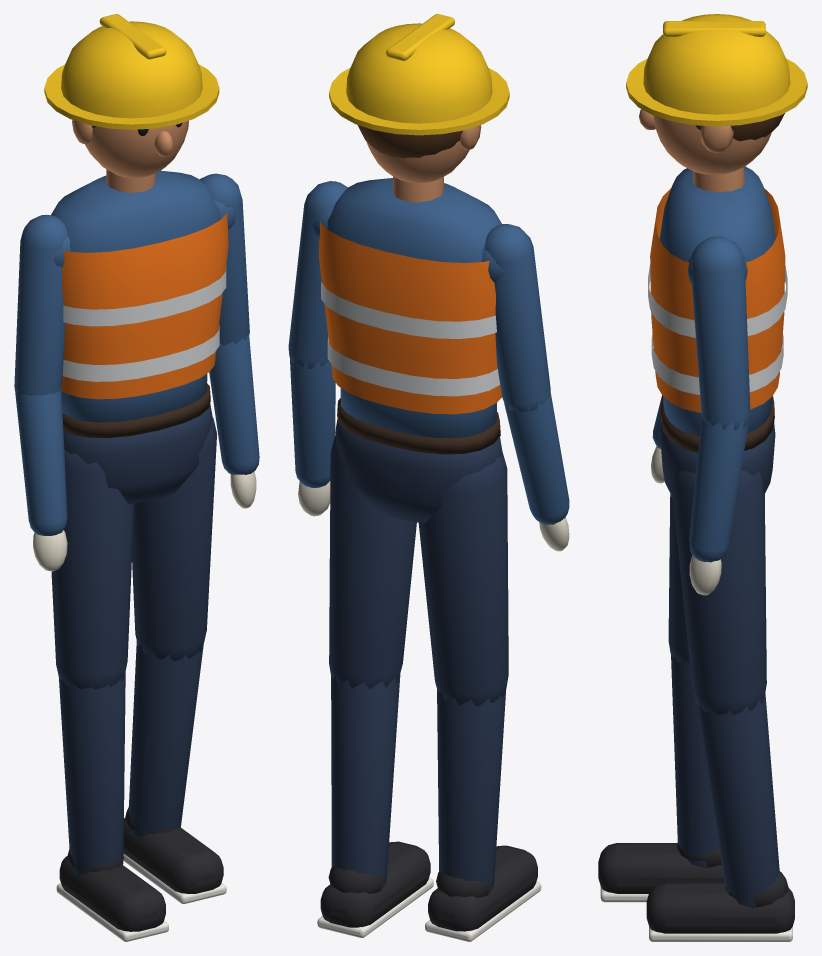
Rendered from worker.fbx.
3 renders of one model, left to right at view 1: azimuth 30°, elevation 25°; view 2: azimuth 150°, elevation 25°; view 3: azimuth 270°, elevation 25°, orthographic. The views are drawn at different scales.
Parts seen in each view (by area): view 1: worker; view 2: worker; view 3: worker.
Boxes of the visible parts, bbox=[...] form: worker: bbox=[14, 14, 259, 941]; worker: bbox=[288, 14, 569, 941]; worker: bbox=[598, 14, 807, 941].
Bounding box in the file's own units: 0.53 × 1.78 × 0.3804.
